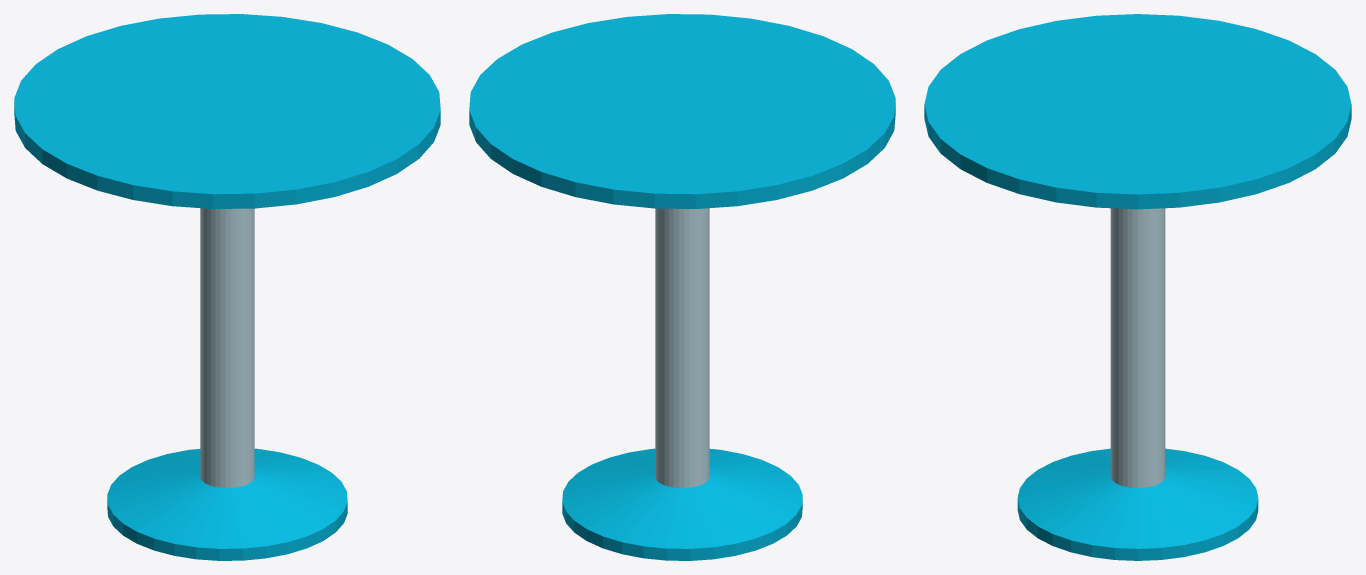
Rendered from barTable.fbx.
The picture shows the model from 3 angles, left to right: view 1: azimuth 30°, elevation 25°; view 2: azimuth 150°, elevation 25°; view 3: azimuth 270°, elevation 25°; orthographic projection.
Parts seen in each view (by area): view 1: Cylinder; view 2: Cylinder; view 3: Cylinder.
Boxes of the visible parts, left/top/right/bottom form: Cylinder: left=14, top=14, right=440, bottom=560; Cylinder: left=469, top=14, right=895, bottom=560; Cylinder: left=924, top=14, right=1351, bottom=560.
Size of the model in its own units: 3.83 by 4.01 by 3.83.
